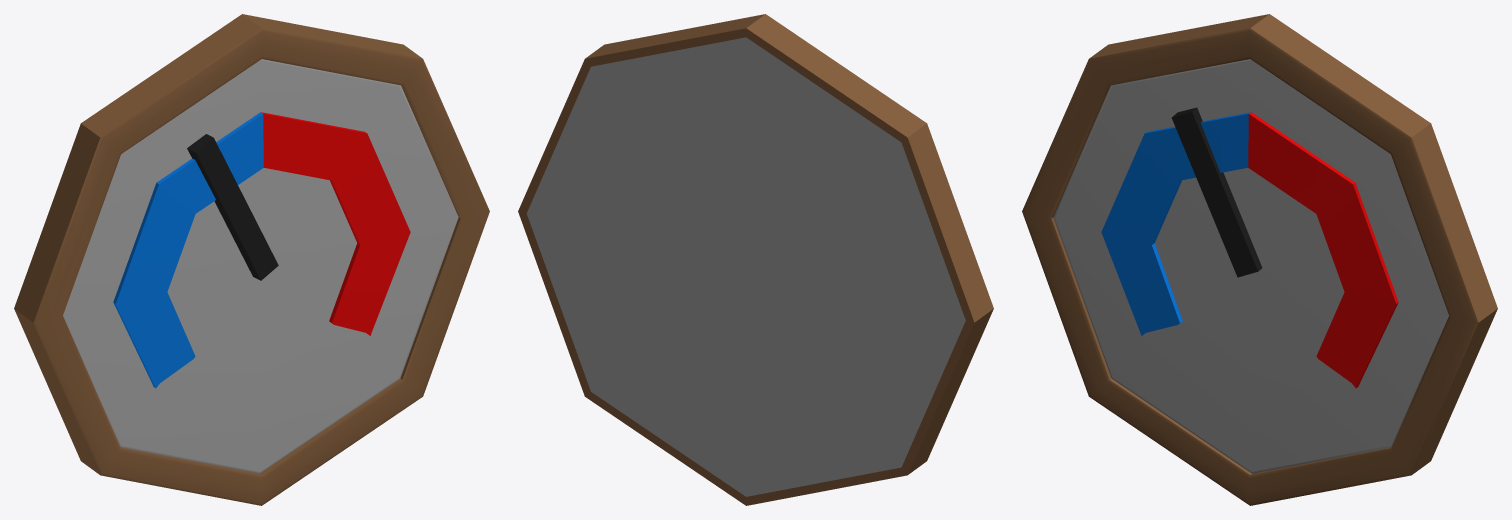
The model's file is tempGuage.fbx.
The picture shows the model from 3 angles, left to right: view 1: azimuth 30°, elevation 25°; view 2: azimuth 150°, elevation 25°; view 3: azimuth 330°, elevation 25°; orthographic projection.
Visible parts, largest first — view 1: tempGuage; view 2: tempGuage; view 3: tempGuage.
Part boxes in pixels (box(x1,y1,x2,y2)): tempGuage: box(14, 14, 489, 505); tempGuage: box(518, 14, 993, 505); tempGuage: box(1022, 14, 1497, 505).
Bounding box in the file's own units: 302 × 302 × 29.83.
